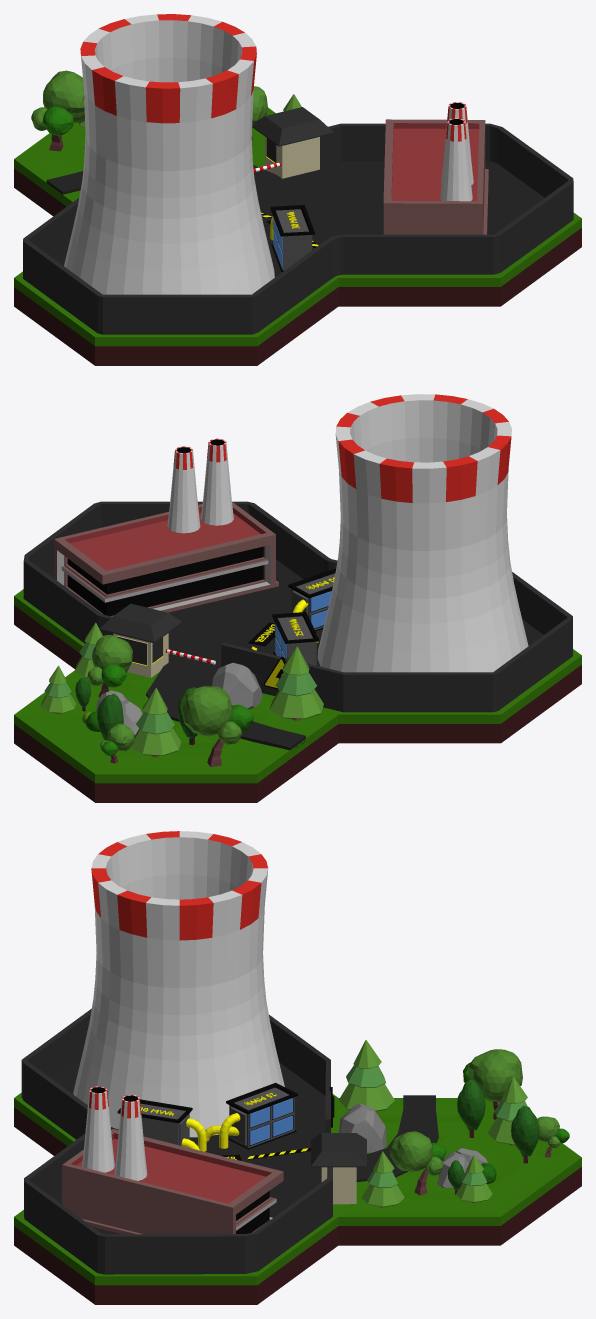
Rendered from 3Hex_power_plant.fbx.
3 views of the same model, one above another, from view 1: azimuth 30°, elevation 25°; view 2: azimuth 150°, elevation 25°; view 3: azimuth 270°, elevation 25° (orthographic).
Parts seen in each view (by area): view 1: Circle, Plane.017, Cube, Plane.010, Cylinder, Cylinder.003, Cylinder.001, Cube.001, Cylinder.009, Cylinder.002, Circle.003, Cube.012 (+6 smaller); view 2: Circle, Plane.017, Cube, Cylinder.009, Cylinder.008, Plane.010, Cylinder, Cube.001, Cube.024, Cylinder.001, Circle.003, Circle.004 (+14 smaller); view 3: Circle, Plane.017, Cube, Cylinder.009, Cylinder.003, Plane.010, Cylinder.008, Cylinder.002, Cube.001, Cube.024, Cube.013, Circle.003 (+12 smaller).
Part boxes in pixels (box(x1,y1,x2,y2)): Circle: box(64, 14, 274, 294); Plane.017: box(23, 123, 573, 334); Cube: box(383, 119, 488, 234); Plane.010: box(52, 161, 544, 277); Cylinder: box(14, 287, 338, 365); Cylinder.003: box(338, 228, 581, 306); Cylinder.001: box(14, 271, 338, 346); Cube.001: box(252, 107, 333, 178); Cylinder.009: box(14, 107, 275, 206); Cylinder.002: box(336, 213, 581, 286); Circle.003: box(440, 118, 472, 201); Cube.012: box(270, 205, 314, 271); Circle: box(317, 394, 528, 672); Plane.017: box(23, 501, 572, 712); Cube: box(54, 501, 278, 616); Cylinder.009: box(14, 670, 338, 783); Cylinder.008: box(14, 724, 338, 802); Plane.010: box(51, 559, 543, 666); Cylinder: box(338, 665, 581, 743); Cube.001: box(99, 603, 182, 677); Cube.024: box(146, 655, 305, 750); Cylinder.001: box(331, 649, 581, 723); Circle.003: box(201, 438, 233, 525); Circle.004: box(167, 446, 200, 533); Circle: box(73, 831, 284, 1137); Plane.017: box(21, 1009, 332, 1274); Cube: box(62, 1129, 283, 1234); Cylinder.009: box(331, 1098, 581, 1225); Cylinder.003: box(14, 1226, 338, 1304); Plane.010: box(51, 1056, 325, 1234); Cylinder.008: box(338, 1167, 581, 1245); Cylinder.002: box(14, 1210, 338, 1285); Cube.001: box(311, 1133, 366, 1204); Cube.024: box(298, 1095, 438, 1182); Cube.013: box(226, 1082, 297, 1149); Circle.003: box(82, 1086, 114, 1172).
Size of the model in its own units: 5196 by 2604 by 5249.
